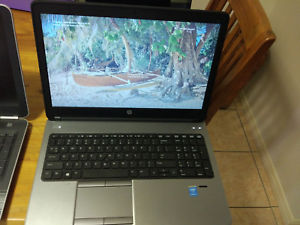Laptop: (20, 1, 236, 225)
